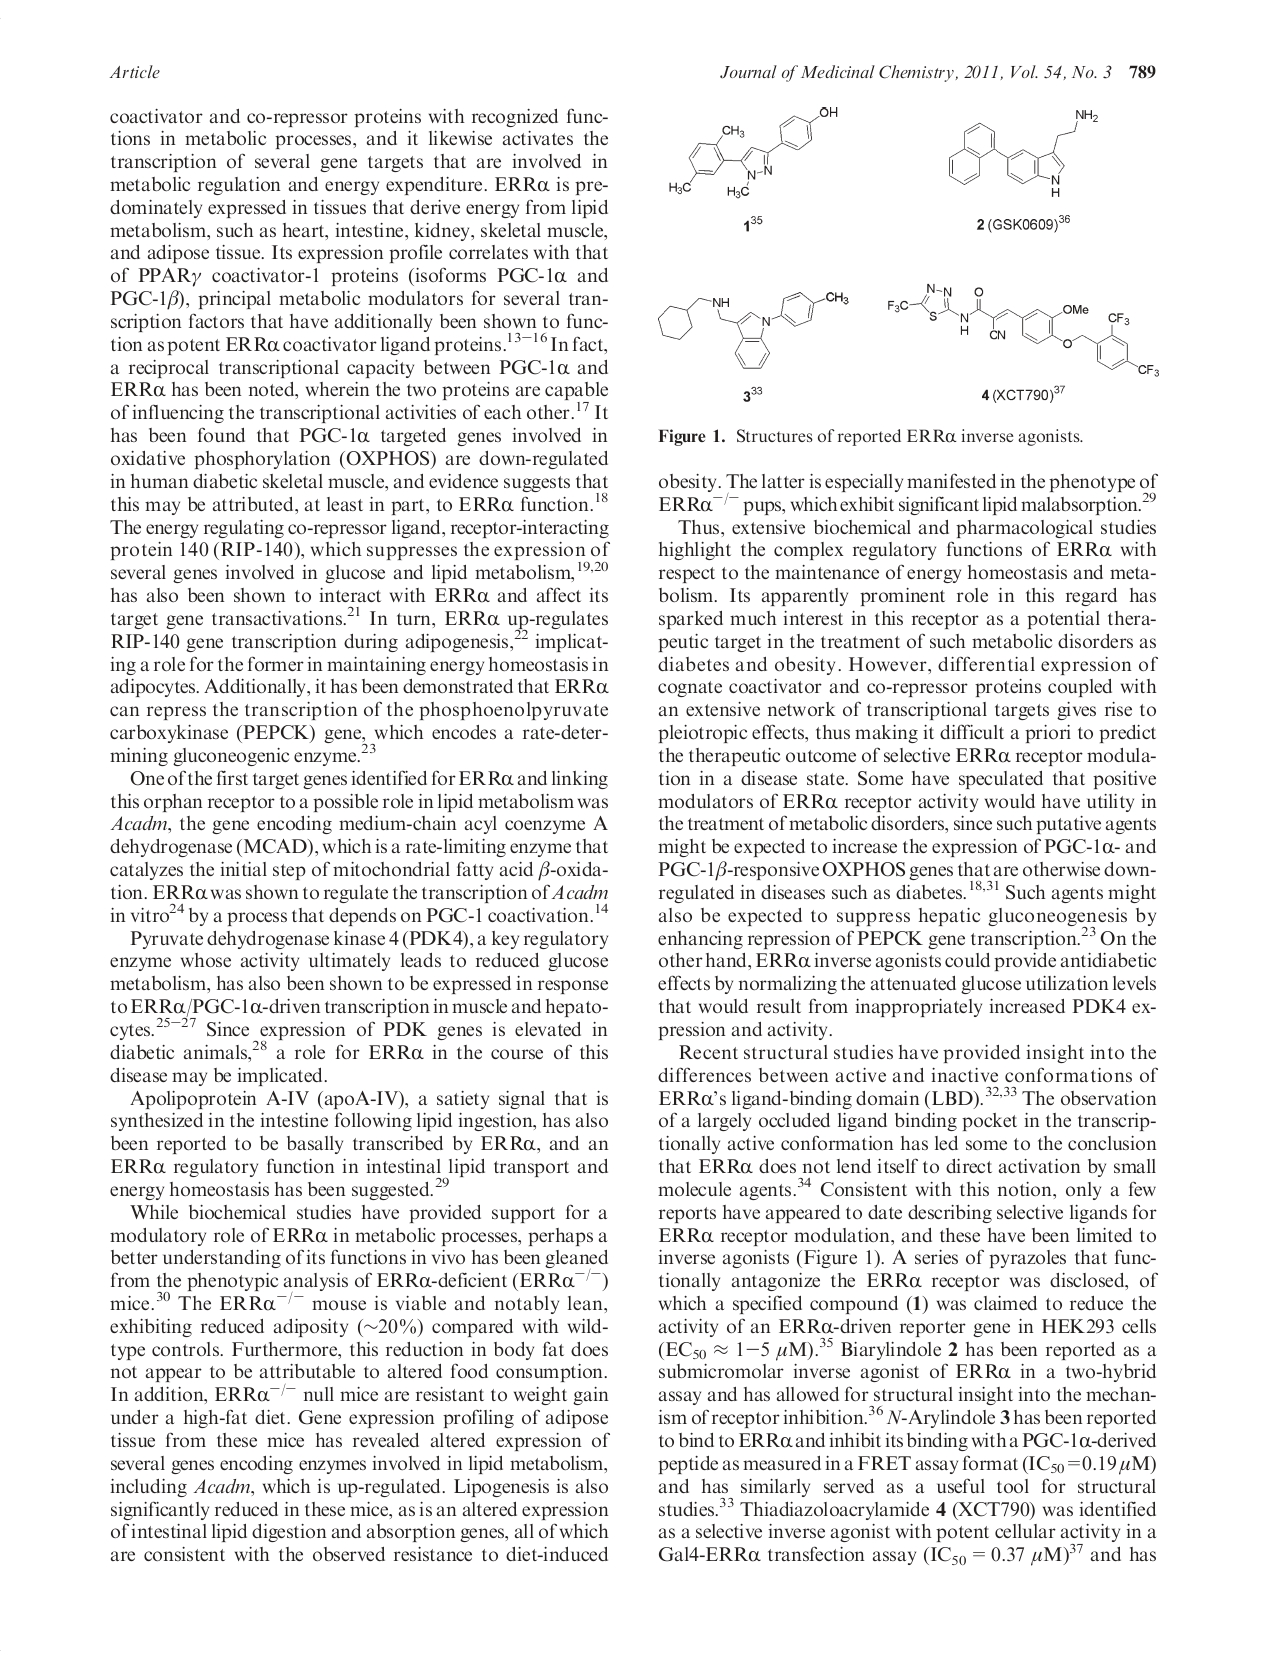exist_molecular: (884, 282, 1161, 382), (666, 105, 840, 199), (656, 290, 852, 372), (944, 106, 1100, 198)
